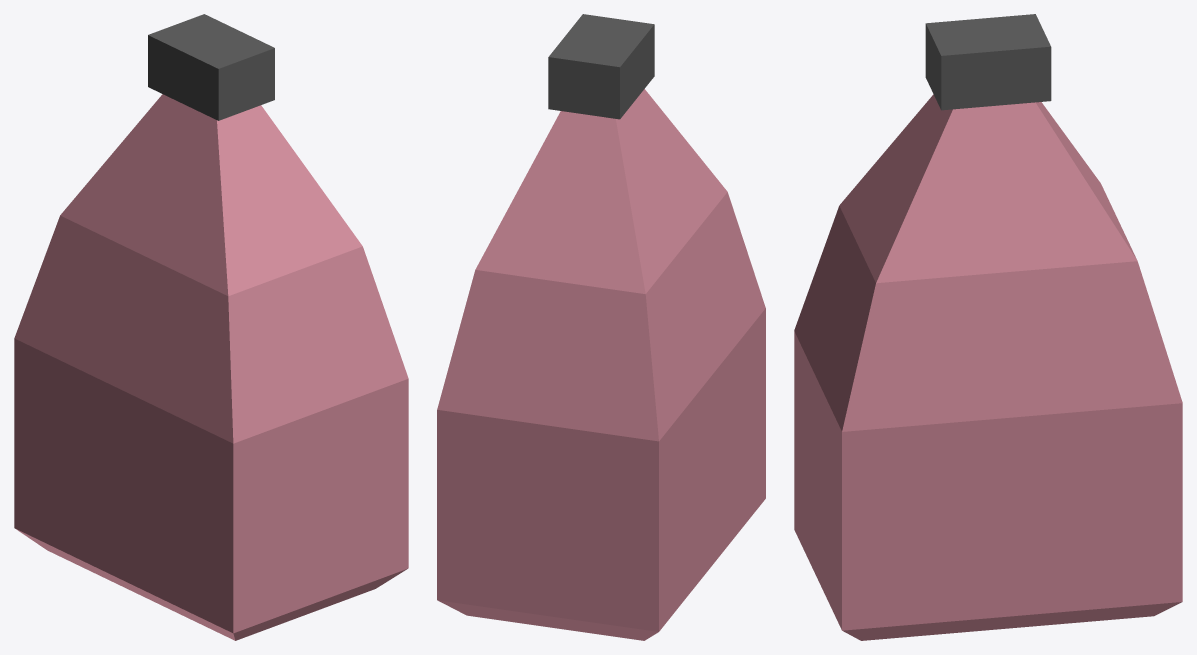
The model's file is Bottle_28.fbx.
3 renders of one model, left to right at view 1: azimuth 30°, elevation 25°; view 2: azimuth 150°, elevation 25°; view 3: azimuth 270°, elevation 25°, orthographic. The views are drawn at different scales.
Parts seen in each view (by area): view 1: Bottle_28; view 2: Bottle_28; view 3: Bottle_28.
Boxes of the visible parts, left/top/right/bottom form: Bottle_28: left=14, top=14, right=408, bottom=640; Bottle_28: left=437, top=14, right=765, bottom=640; Bottle_28: left=794, top=14, right=1182, bottom=640.
Size of the model in its own units: 10.55 by 13.33 by 20.93.
